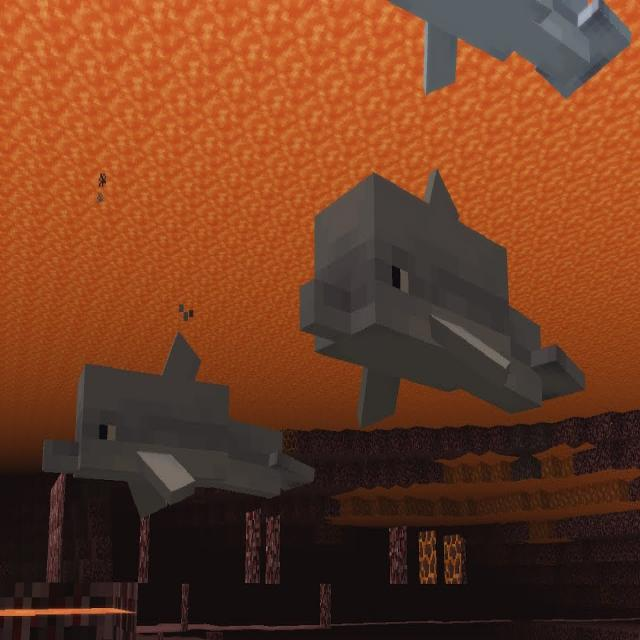Dolphin: (296, 160, 594, 432), (36, 329, 316, 535)
